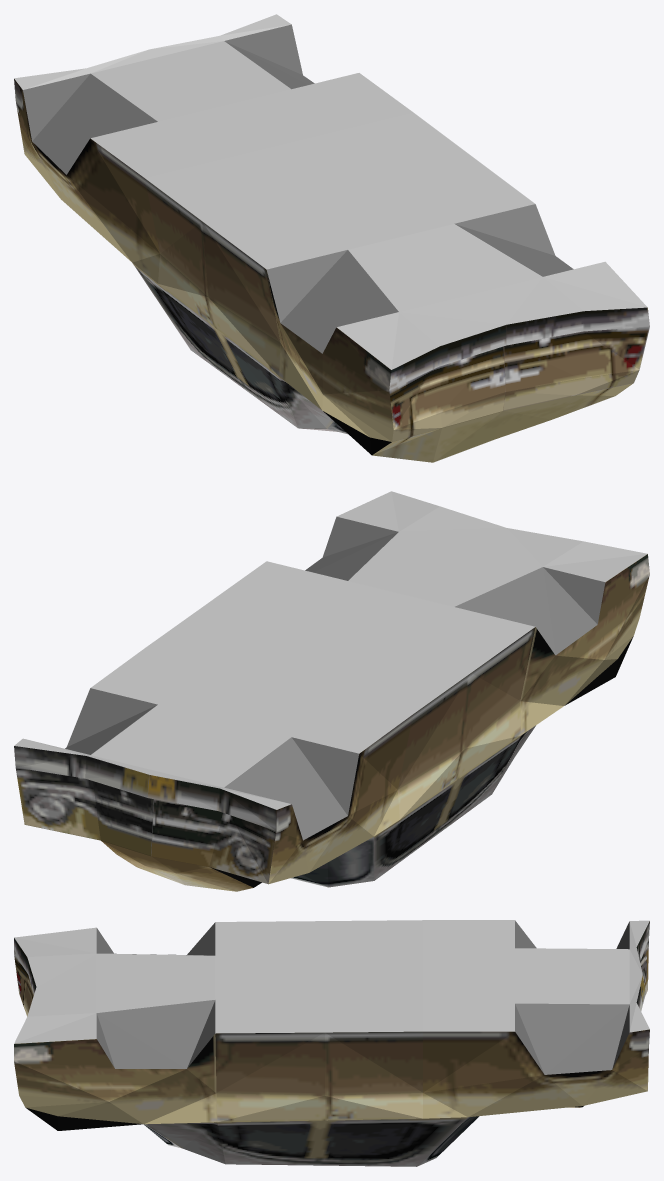
The model's file is HAVANA_model3_damaged.obj.
The picture shows the model from 3 angles, top to bottom: view 1: azimuth 30°, elevation 25°; view 2: azimuth 150°, elevation 25°; view 3: azimuth 270°, elevation 25°; orthographic projection. The views are drawn at different scales.
Parts seen in each view (by area): view 1: HAVANA_model3_damaged; view 2: HAVANA_model3_damaged; view 3: HAVANA_model3_damaged.
Boxes of the visible parts, left/top/right/bottom form: HAVANA_model3_damaged: left=14, top=14, right=649, bottom=462; HAVANA_model3_damaged: left=14, top=491, right=649, bottom=891; HAVANA_model3_damaged: left=14, top=920, right=649, bottom=1166.
Size of the model in its own units: 270 by 172 by 622.
